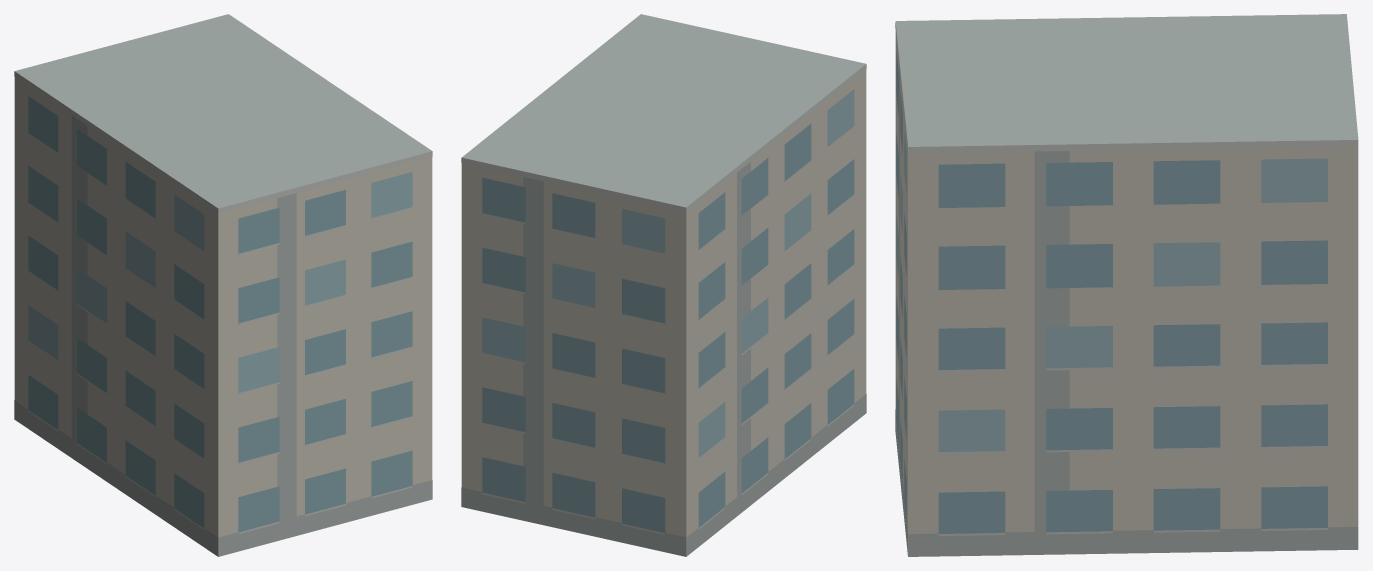
The model's file is survey-upis-32951122.glb.
3 renders of one model, left to right at view 1: azimuth 30°, elevation 25°; view 2: azimuth 150°, elevation 25°; view 3: azimuth 270°, elevation 25°, orthographic. The views are drawn at different scales.
Visible parts, largest first — view 1: survey-upis-32951122.tmp; view 2: survey-upis-32951122.tmp; view 3: survey-upis-32951122.tmp.
Part boxes in pixels (x1,y1,x2,y2): survey-upis-32951122.tmp: (14, 14, 432, 556); survey-upis-32951122.tmp: (461, 14, 866, 556); survey-upis-32951122.tmp: (895, 14, 1358, 556).
Size of the model in its own units: 10.79 by 15.5 by 15.88.
